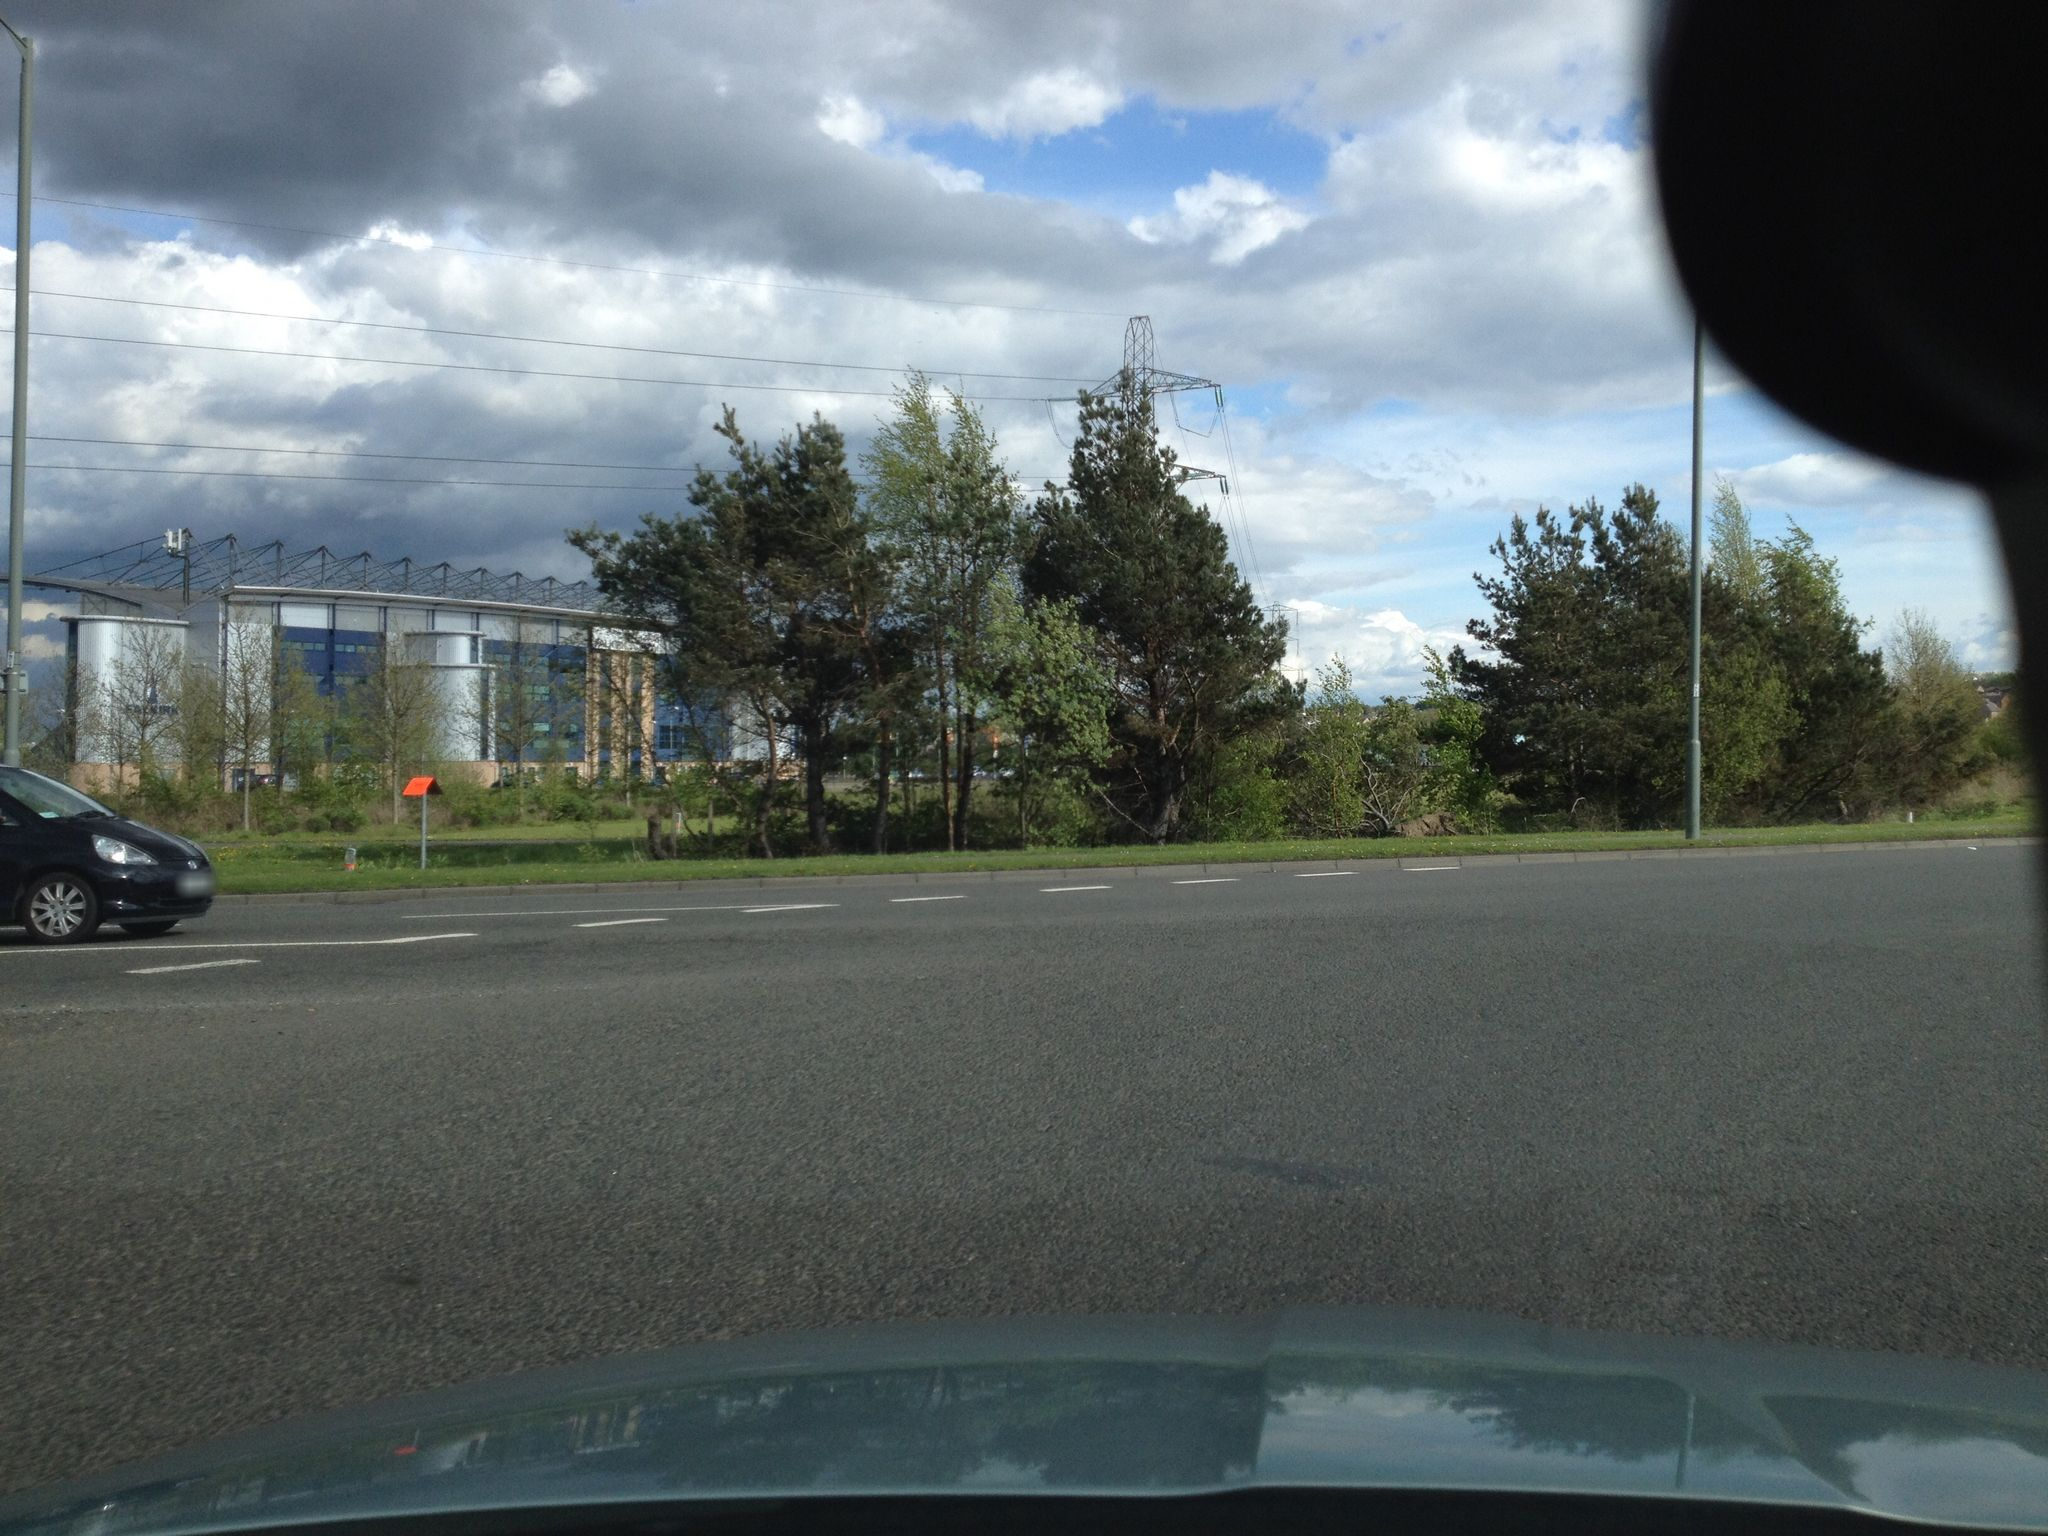car: (0, 763, 218, 944)
